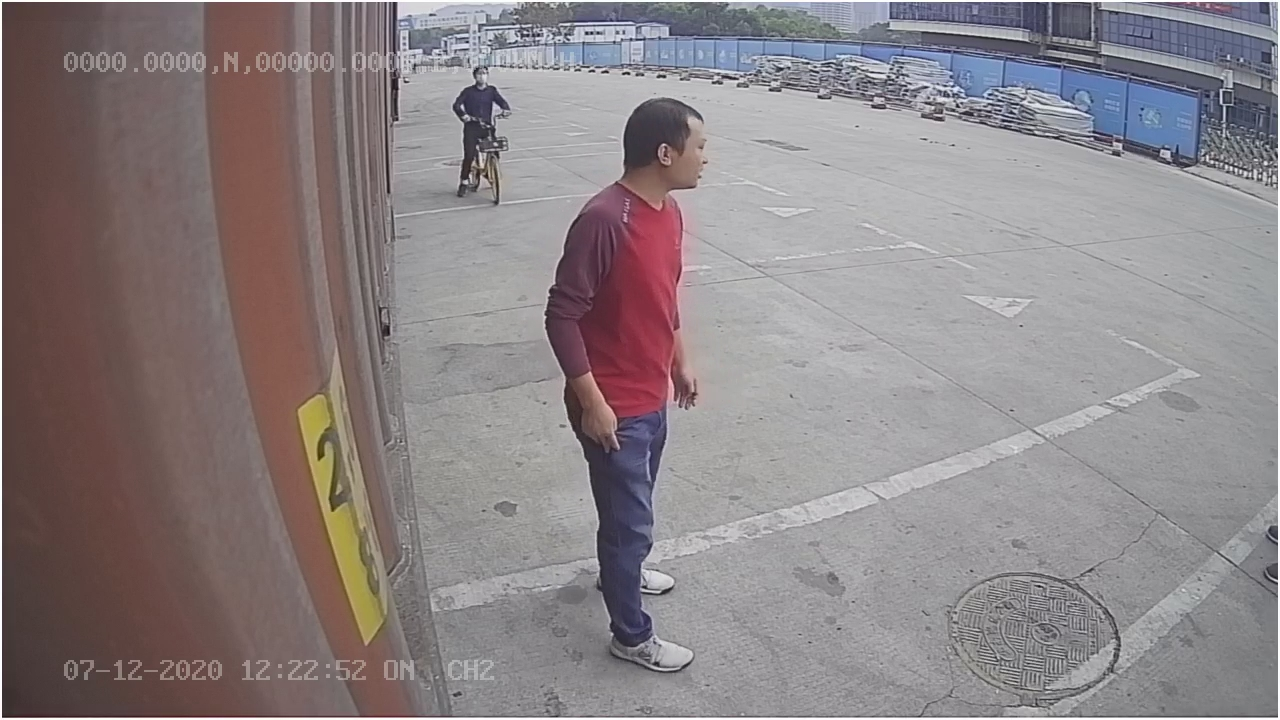person: (538, 93, 714, 678)
